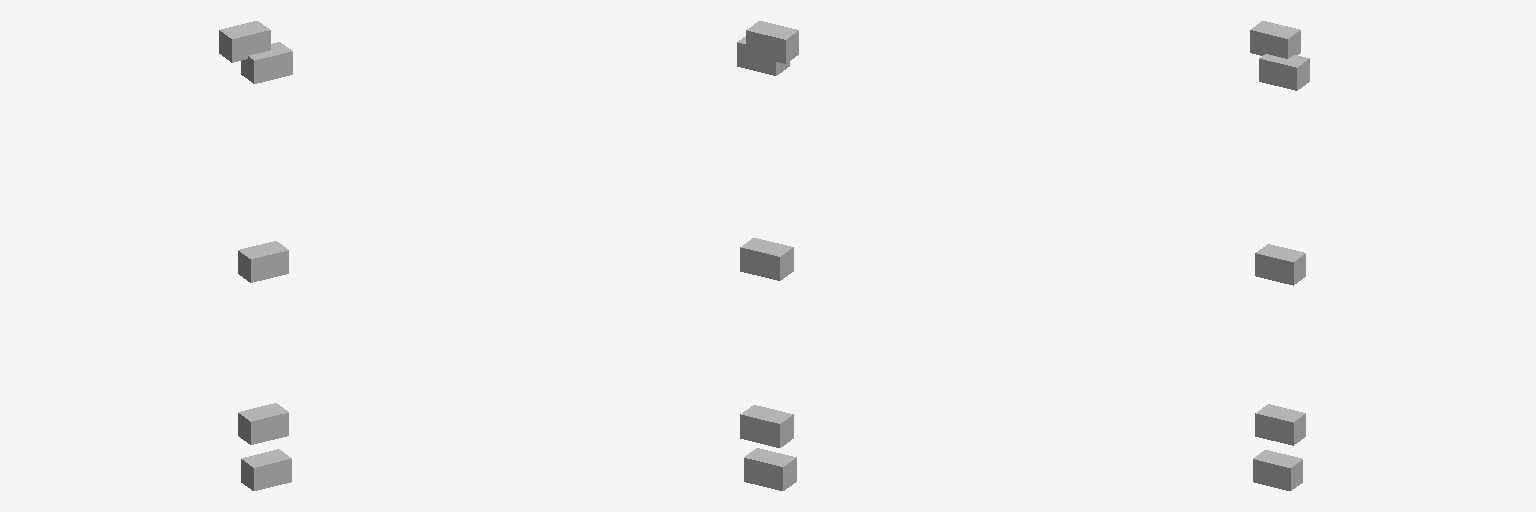
The robot description file, URDF, robot "arm_5dof_robot":
<?xml version="1.0" ?>
<!-- =================================================================================== -->
<!-- |    This document was autogenerated by xacro from argonaut_arm_standalone.urdf.xacro | -->
<!-- |    EDITING THIS FILE BY HAND IS NOT RECOMMENDED                                 | -->
<!-- =================================================================================== -->
<robot name="arm_5dof_robot" xmlns:controller="http://playerstage.sourceforge.net/gazebo/xmlschema/#controller" xmlns:interface="http://playerstage.sourceforge.net/gazebo/xmlschema/#interface" xmlns:sensor="http://playerstage.sourceforge.net/gazebo/xmlschema/#sensor" xmlns:xacro="http://playerstage.sourceforge.net/gazebo/xmlschema/#interface">
  <link name="base_link"/>
  <joint name="arm_joint_0" type="revolute">
    <origin rpy="0 0 0" xyz="0 0 0.0"/>
    <axis xyz="0 0 1"/>
    <limit effort="1000" lower="-3.14159265359" upper="3.14159265359" velocity="1.91986217719"/>
    <parent link="base_link"/>
    <child link="arm_link_0"/>
  </joint>
  <link name="arm_link_0">
    <inertial>
      <mass value="1.0"/>
      <origin rpy="0 0 0" xyz="0.0 0.0 0.0"/>
      <inertia ixx="0.005" ixy="0.0" ixz="0.0" iyy="0.005" iyz="0.0" izz="0.005"/>
    </inertial>
    <visual>
      <origin rpy="0 -1.5707963268 0" xyz="0.0 0.0 0.0"/>
      <geometry>
        <box size="0.08 0.08 0.137"/>
      </geometry>
      <material name="DarkGrey">
        <color rgba="0.8 0.8 0.8 1"/>
      </material>
    </visual>
    <collision>
      <origin rpy="0 0 0" xyz="0.0 0.0 0.10525"/>
      <geometry>
        <box size="0.08 0.08 0.137"/>
      </geometry>
    </collision>
  </link>
  <joint name="arm_joint_1" type="revolute">
    <origin rpy="0 0 0" xyz="0.0 0 0.1495"/>
    <axis xyz="0 1 0"/>
    <limit effort="1000" lower="-2.31256125889" upper="2.31256125889" velocity="1.91986217719"/>
    <parent link="arm_link_0"/>
    <child link="arm_link_1"/>
  </joint>
  <link name="arm_link_1">
    <inertial>
      <mass value="1.0"/>
      <origin rpy="0 0 0" xyz="0.0 0.0 0.0"/>
      <inertia ixx="0.005" ixy="0.0" ixz="0.0" iyy="0.005" iyz="0.0" izz="0.005"/>
    </inertial>
    <visual>
      <origin rpy="3.14159265359 -1.5707963268 0" xyz="0.0 0.0184 0.0"/>
      <geometry>
        <box size="0.08 0.08 0.137"/>
      </geometry>
      <material name="DarkGrey">
        <color rgba="0.8 0.8 0.8 1"/>
      </material>
    </visual>
    <collision>
      <origin rpy="0 0 0" xyz="0.0195 0.0634 0.2754"/>
      <geometry>
        <box size="0.08 0.08 0.137"/>
      </geometry>
    </collision>
  </link>
  <joint name="arm_joint_2" type="revolute">
    <origin rpy=" 0 0 0" xyz="0 0.0 0.5508"/>
    <axis xyz="0 1 0"/>
    <limit effort="1000" lower="-2.87979326579" upper="2.87979326579" velocity="1.91986217719"/>
    <parent link="arm_link_1"/>
    <child link="arm_link_2"/>
  </joint>
  <link name="arm_link_2">
    <inertial>
      <mass value="0.1"/>
      <origin rpy="0 0 0" xyz="0.0 0.0 0.0"/>
      <inertia ixx="0.005" ixy="0.0" ixz="0.0" iyy="0.005" iyz="0.0" izz="0.005"/>
    </inertial>
    <visual>
      <origin rpy="0 -1.5707963268 0" xyz="0.0 0.0184 0.0"/>
      <geometry>
        <box size="0.08 0.08 0.137"/>
      </geometry>
      <material name="DarkGrey">
        <color rgba="0.8 0.8 0.8 1"/>
      </material>
    </visual>
    <collision>
      <!--Note fudge factor on y-->
      <origin rpy="0 0 0" xyz="0 -0.0415 0.333"/>
      <geometry>
        <box size="0.086 0.073 0.750"/>
      </geometry>
    </collision>
  </link>
  <joint name="arm_joint_3" type="revolute">
    <origin rpy=" 0 0 0" xyz="0.013 0.0 0.6725"/>
    <axis xyz="0 1 0"/>
    <limit effort="1000" lower="-2.75762021815" upper="2.75762021815" velocity="1.91986217719"/>
    <parent link="arm_link_2"/>
    <child link="arm_link_3"/>
  </joint>
  <link name="arm_link_3">
    <inertial>
      <mass value="0.1"/>
      <origin rpy="0 0 0" xyz="0.0 0.0 0.0"/>
      <inertia ixx="0.005" ixy="0.0" ixz="0.0" iyy="0.005" iyz="0.0" izz="0.005"/>
    </inertial>
    <visual>
      <origin rpy="3.14159265359  -1.5707963268 0" xyz="0.0 0.0184 0.0"/>
      <geometry>
        <box size="0.08 0.08 0.137"/>
      </geometry>
      <material name="DarkGrey">
        <color rgba="0.8 0.8 0.8 1"/>
      </material>
    </visual>
    <collision>
      <origin rpy="0 0 0" xyz="-0.026 0.0589 -0.0665"/>
      <geometry>
        <box size="0.08 0.08 0.137"/>
      </geometry>
    </collision>
  </link>
  <joint name="arm_joint_4" type="revolute">
    <origin rpy=" 0 0 0" xyz="-0.056 0.0589 0.0"/>
    <axis xyz="0 0 1"/>
    <limit effort="1000" lower="-3.14159265359" upper="3.14159265359" velocity="1.91986217719"/>
    <parent link="arm_link_3"/>
    <child link="arm_link_4"/>
  </joint>
  <link name="arm_link_4">
    <inertial>
      <mass value="0.1"/>
      <origin rpy="0 0 0" xyz="0.0 0.0 0.0"/>
      <inertia ixx="0.005" ixy="0.0" ixz="0.0" iyy="0.005" iyz="0.0" izz="0.005"/>
    </inertial>
    <visual>
      <origin rpy="0  1.5707963268 3.14159265359" xyz="0.0 0.0 0.069"/>
      <geometry>
        <box size="0.08 0.08 0.137"/>
      </geometry>
      <material name="DarkGrey">
        <color rgba="0.8 0.8 0.8 1"/>
      </material>
    </visual>
    <collision>
      <origin rpy="0 0 0" xyz="0.019 0.0 0.1825"/>
      <geometry>
        <box size="0.08 0.08 0.137"/>
      </geometry>
    </collision>
  </link>
  <transmission name="arm_joint_0_joint_transmssion">
    <type>transmission_interface/SimpleTransmission</type>
    <joint name="arm_joint_0">
      <hardwareInterface>EffortJointInterface</hardwareInterface>
    </joint>
    <actuator name="arm_joint_0_motor">
      <hardwareInterface>EffortJointInterface</hardwareInterface>
      <mechanicalReduction>1</mechanicalReduction>
    </actuator>
  </transmission>
  <transmission name="arm_joint_1_joint_transmssion">
    <type>transmission_interface/SimpleTransmission</type>
    <joint name="arm_joint_1">
      <hardwareInterface>EffortJointInterface</hardwareInterface>
    </joint>
    <actuator name="arm_joint_1_motor">
      <hardwareInterface>EffortJointInterface</hardwareInterface>
      <mechanicalReduction>1</mechanicalReduction>
    </actuator>
  </transmission>
  <transmission name="arm_joint_2_joint_transmssion">
    <type>transmission_interface/SimpleTransmission</type>
    <joint name="arm_joint_2">
      <hardwareInterface>EffortJointInterface</hardwareInterface>
    </joint>
    <actuator name="arm_joint_2_motor">
      <hardwareInterface>EffortJointInterface</hardwareInterface>
      <mechanicalReduction>1</mechanicalReduction>
    </actuator>
  </transmission>
  <transmission name="arm_joint_3_joint_transmssion">
    <type>transmission_interface/SimpleTransmission</type>
    <joint name="arm_joint_3">
      <hardwareInterface>EffortJointInterface</hardwareInterface>
    </joint>
    <actuator name="arm_joint_3_motor">
      <hardwareInterface>EffortJointInterface</hardwareInterface>
      <mechanicalReduction>1</mechanicalReduction>
    </actuator>
  </transmission>
  <transmission name="arm_joint_4_joint_transmssion">
    <type>transmission_interface/SimpleTransmission</type>
    <joint name="arm_joint_4">
      <hardwareInterface>EffortJointInterface</hardwareInterface>
    </joint>
    <actuator name="arm_joint_4_motor">
      <hardwareInterface>EffortJointInterface</hardwareInterface>
      <mechanicalReduction>1</mechanicalReduction>
    </actuator>
  </transmission>
  <gazebo reference="arm_link_0">
    <material>Gazebo/Grey</material>
  </gazebo>
  <gazebo reference="arm_link_1">
    <material>Gazebo/Grey</material>
  </gazebo>
  <gazebo reference="arm_link_2">
    <material>Gazebo/Grey</material>
  </gazebo>
  <gazebo reference="arm_link_3">
    <material>Gazebo/Grey</material>
  </gazebo>
  <gazebo reference="arm_link_4">
    <material>Gazebo/Grey</material>
  </gazebo>
</robot>

--- What the picture shows (computed from the rendered views, not written in the file) ---
3 views of the same robot in one strip: view 1: azimuth 30°, elevation 25°; view 2: azimuth 150°, elevation 25°; view 3: azimuth 330°, elevation 25° (orthographic).
Robot: arm_5dof_robot — 6 links, 5 joints (5 revolute); root link base_link; default pose: all joints at 0.
Links seen in each view (by area): view 1: arm_link_2, arm_link_0, arm_link_1, arm_link_4, arm_link_3; view 2: arm_link_1, arm_link_2, arm_link_0, arm_link_4, arm_link_3; view 3: arm_link_1, arm_link_2, arm_link_0, arm_link_4, arm_link_3.
Boxes of the visible links, left/top/right/bottom form: arm_link_2: left=238, top=241, right=288, bottom=282; arm_link_0: left=241, top=449, right=291, bottom=490; arm_link_1: left=238, top=403, right=288, bottom=444; arm_link_4: left=219, top=21, right=270, bottom=62; arm_link_3: left=241, top=42, right=292, bottom=83; arm_link_1: left=740, top=405, right=793, bottom=447; arm_link_2: left=740, top=238, right=793, bottom=280; arm_link_0: left=744, top=448, right=796, bottom=490; arm_link_4: left=746, top=21, right=798, bottom=63; arm_link_3: left=737, top=36, right=789, bottom=75; arm_link_1: left=1255, top=404, right=1305, bottom=445; arm_link_2: left=1255, top=244, right=1305, bottom=285; arm_link_0: left=1253, top=450, right=1302, bottom=490; arm_link_4: left=1250, top=21, right=1300, bottom=58; arm_link_3: left=1259, top=54, right=1309, bottom=90.
Bounding box of the posed robot: 0.193 × 0.1389 × 1.52 m (x, y, z).
Geometry: primitives only (box / cylinder / sphere), no mesh files.
